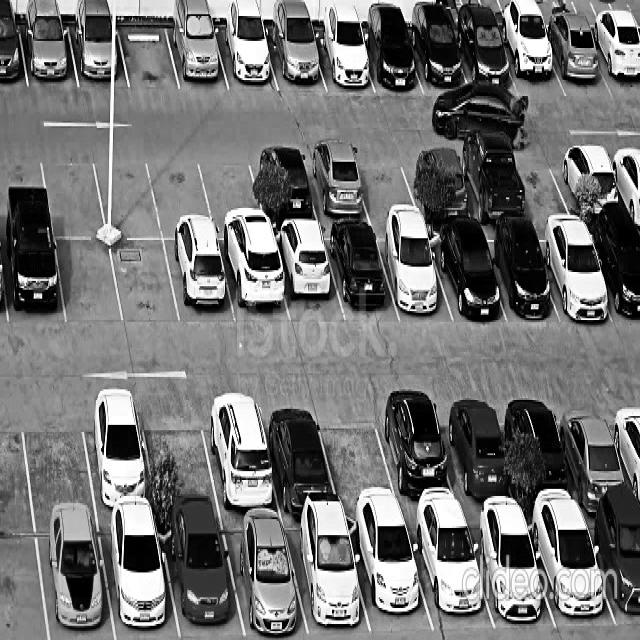occupied: (522, 498, 618, 640), (371, 382, 463, 528), (461, 499, 556, 640), (339, 501, 434, 640), (546, 380, 637, 525), (432, 381, 519, 527), (217, 502, 309, 640), (403, 503, 495, 640), (280, 503, 372, 640), (155, 503, 244, 640), (196, 384, 281, 526), (91, 503, 179, 640), (254, 384, 339, 524), (499, 381, 582, 524), (75, 383, 157, 523), (528, 208, 615, 336), (31, 508, 114, 640), (422, 214, 507, 339), (370, 213, 453, 338), (317, 214, 399, 335), (476, 213, 558, 333), (267, 216, 344, 335), (161, 229, 236, 336), (216, 230, 290, 338), (452, 132, 528, 237), (489, 13, 566, 115), (537, 11, 612, 114), (444, 12, 519, 113), (401, 133, 474, 235), (299, 135, 371, 234), (247, 137, 319, 236), (582, 508, 640, 630), (0, 226, 66, 333), (556, 130, 625, 229), (404, 14, 471, 107), (356, 17, 423, 107), (307, 17, 374, 106), (584, 221, 640, 327), (164, 14, 229, 103), (213, 15, 279, 102), (261, 18, 326, 103), (66, 15, 129, 97), (17, 16, 79, 96), (585, 29, 640, 98)
vacant: (310, 384, 401, 529), (135, 383, 220, 526), (15, 386, 95, 520), (195, 138, 268, 252), (142, 139, 216, 251), (91, 139, 162, 249), (108, 230, 180, 337), (37, 139, 107, 246), (53, 230, 123, 333), (349, 134, 420, 232), (509, 131, 578, 230), (115, 14, 180, 101)
